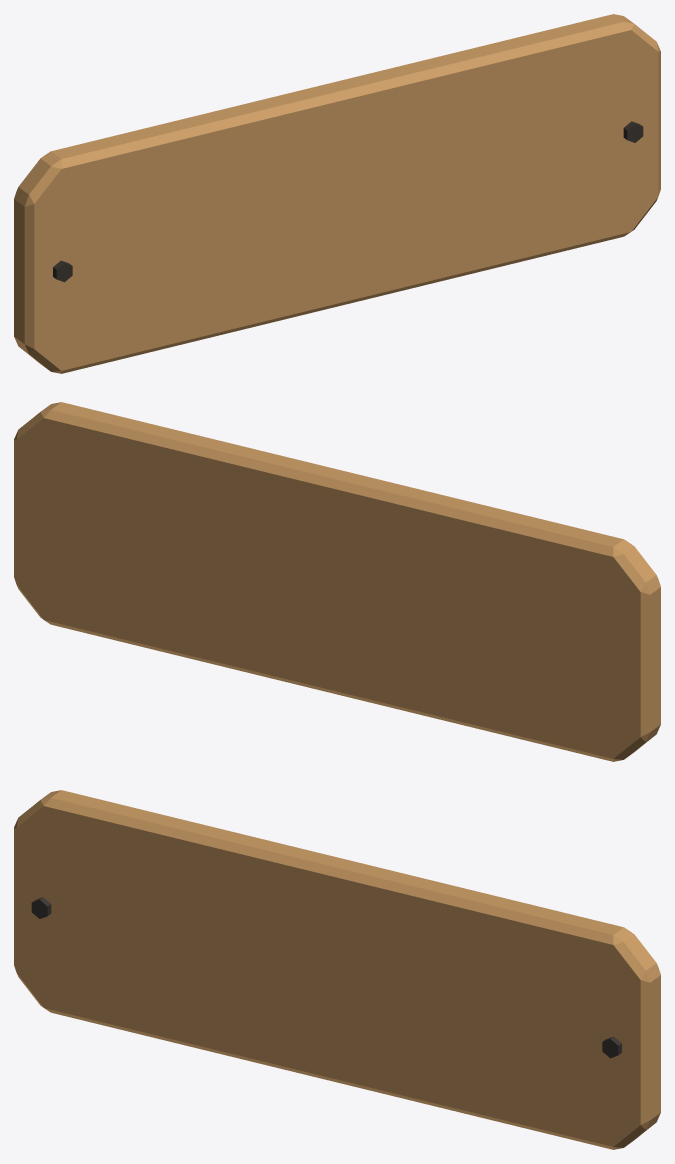
The model's file is sign.glb.
The picture shows the model from 3 angles, top to bottom: view 1: azimuth 30°, elevation 25°; view 2: azimuth 150°, elevation 25°; view 3: azimuth 330°, elevation 25°; orthographic projection.
Visible parts, largest first — view 1: Sign; view 2: Sign; view 3: Sign.
Part boxes in pixels (x1=…): Sign: x1=14, y1=14, x2=660, y2=373; Sign: x1=14, y1=402, x2=660, y2=761; Sign: x1=14, y1=790, x2=660, y2=1149.
Size of the model in its own units: 0.62 by 0.2 by 0.036.
